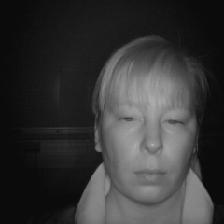normal: (91, 28, 217, 210)
